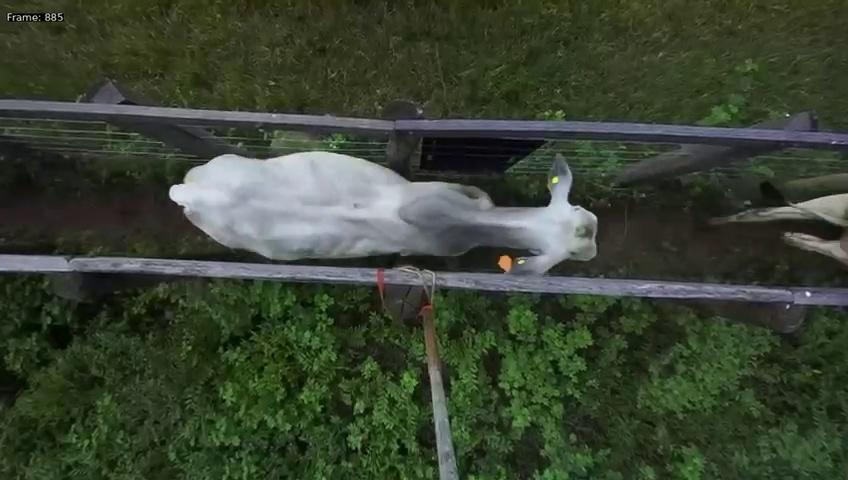cattle: (167, 145, 599, 274)
